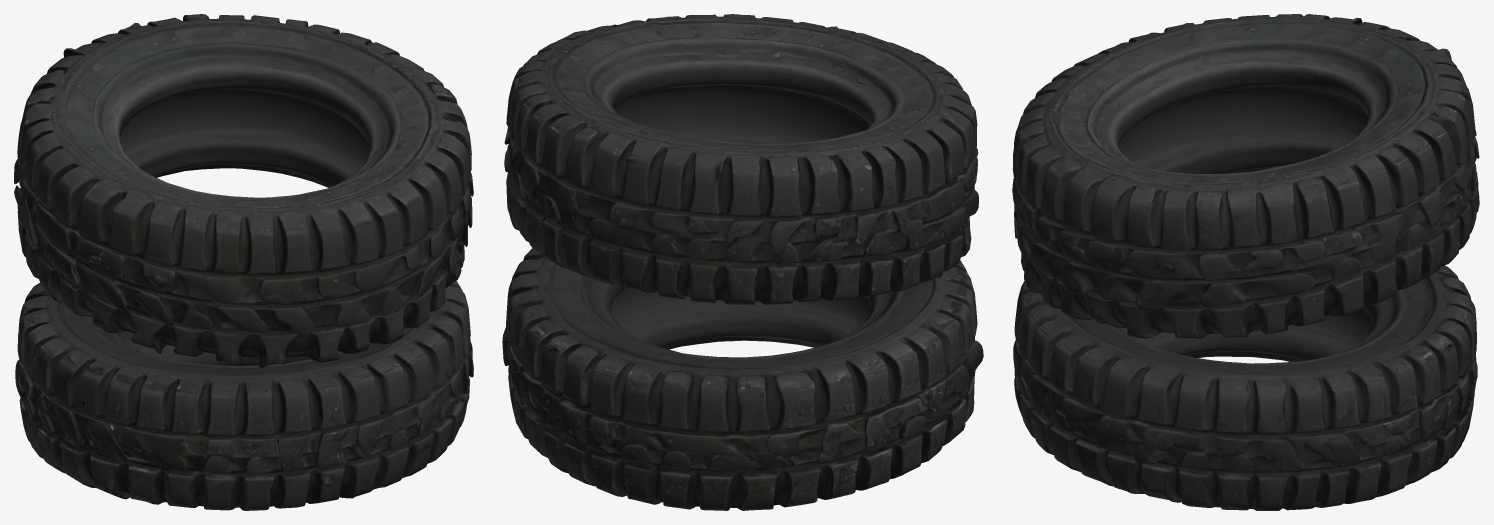
File: tyres.glb
The picture shows the model from 3 angles, left to right: view 1: azimuth 30°, elevation 25°; view 2: azimuth 150°, elevation 25°; view 3: azimuth 270°, elevation 25°; orthographic projection. The views are drawn at different scales.
Size of the model in its own units: 0.9776 by 0.8184 by 0.9799.
1 material, 1 textured.
